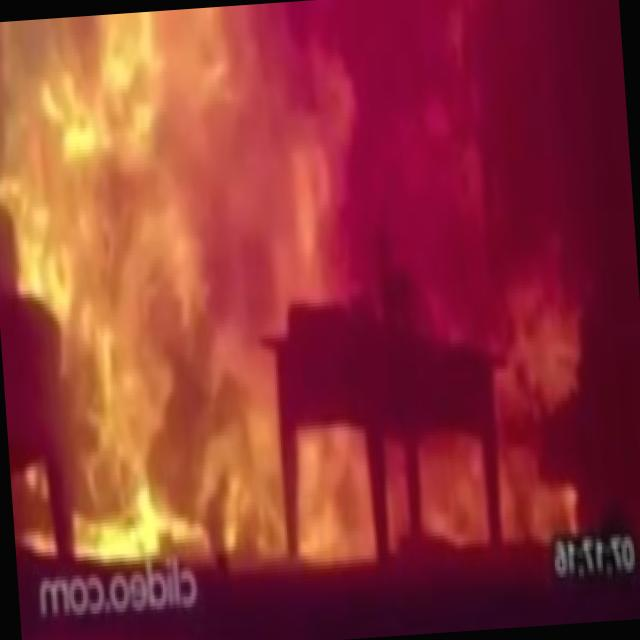fire: (0, 0, 587, 557)
